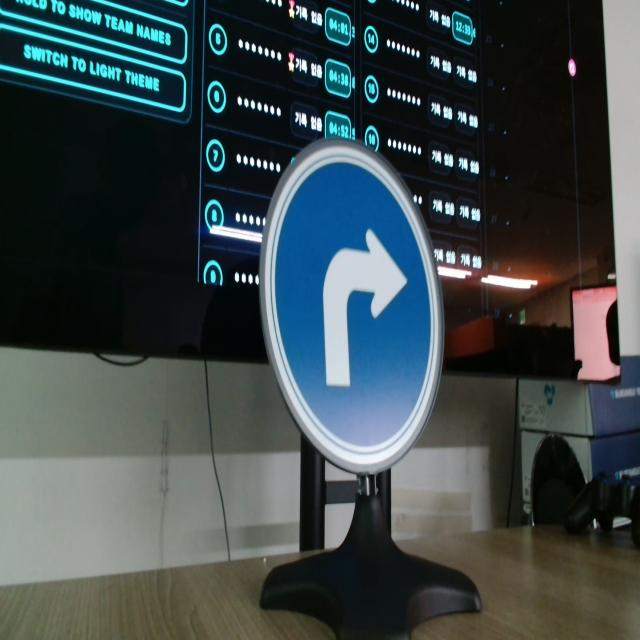right_dierection: (256, 136, 448, 473)
